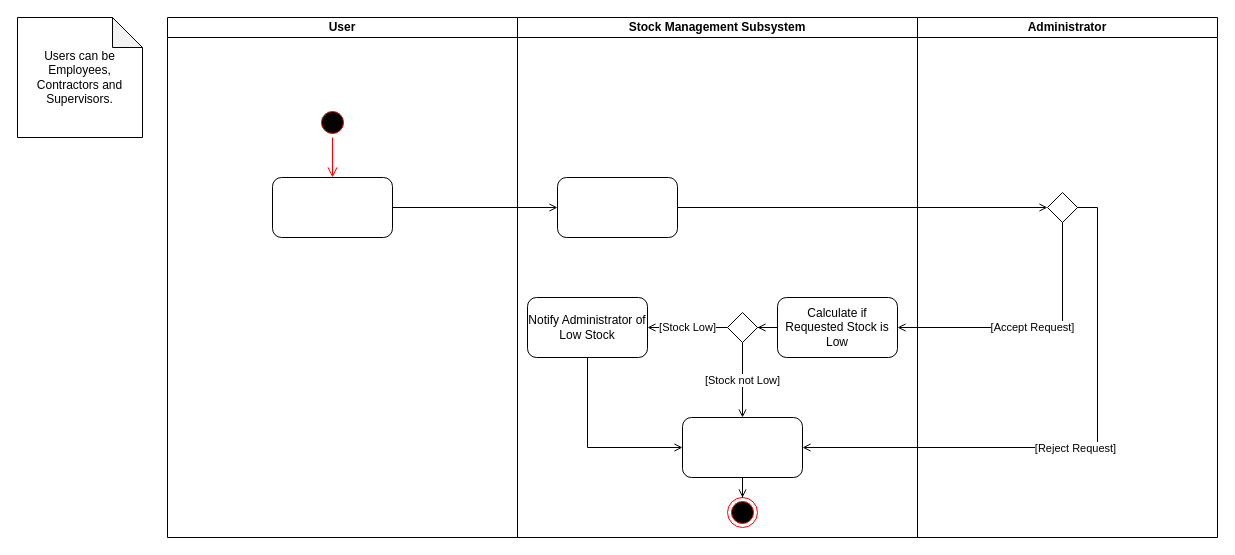
The diagram is 1235 pixels wide and 555 high, and some of its shapes have lost their labels. Each missing label, with the centre of its shape:
"Notify Admin of Request" belongs at pixel 617 207.
"Notify User of Request Result" belongs at pixel 742 447.
"Request Stock for Task" belongs at pixel 332 207.
